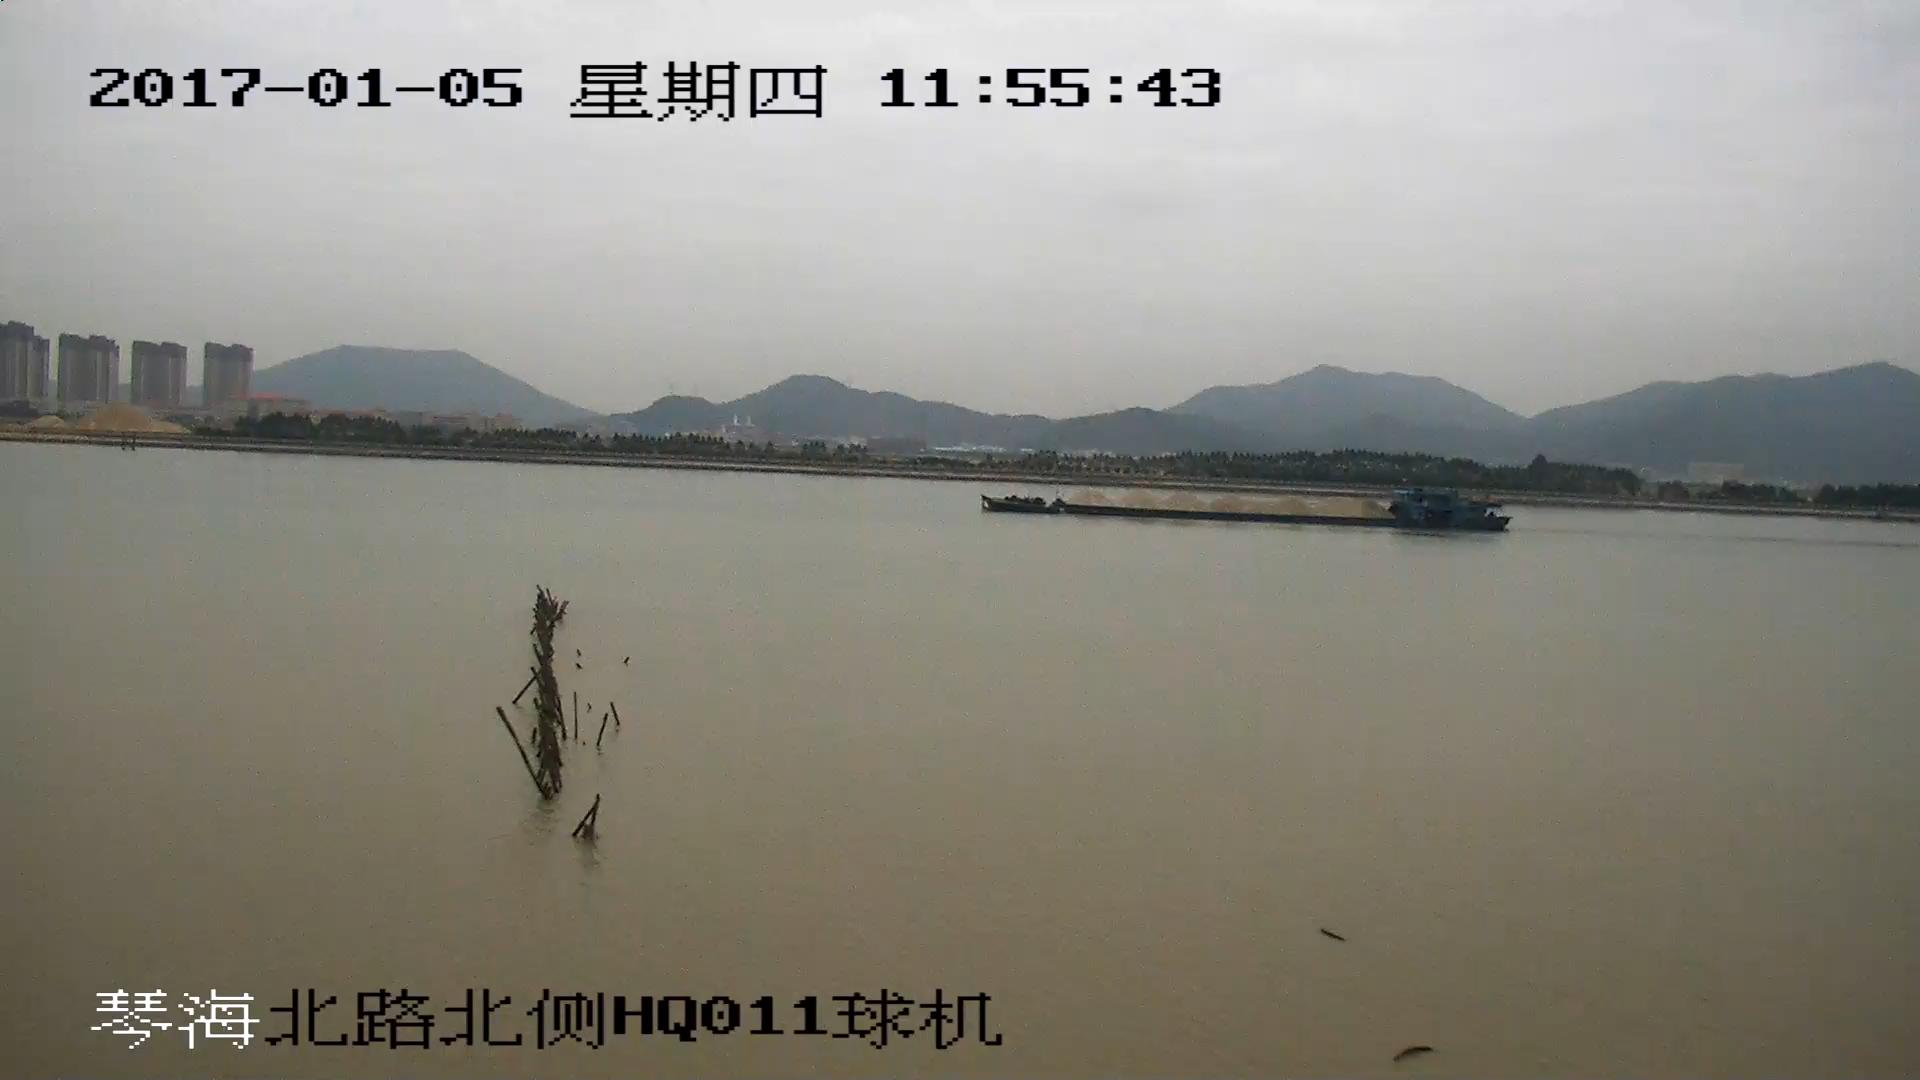ore carrier: (982, 478, 1500, 538)
